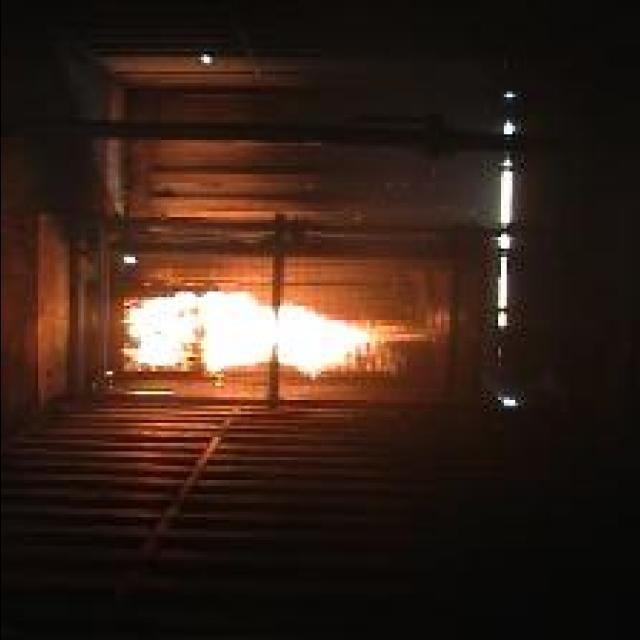Fire: (118, 292, 422, 378)
